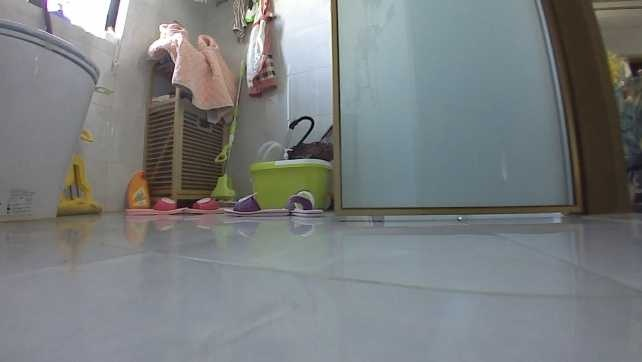door_anno: (326, 0, 583, 219)
slipper: (218, 193, 286, 217), (125, 193, 185, 219), (286, 192, 323, 220), (185, 195, 224, 215)
toilet: (0, 15, 102, 224)
